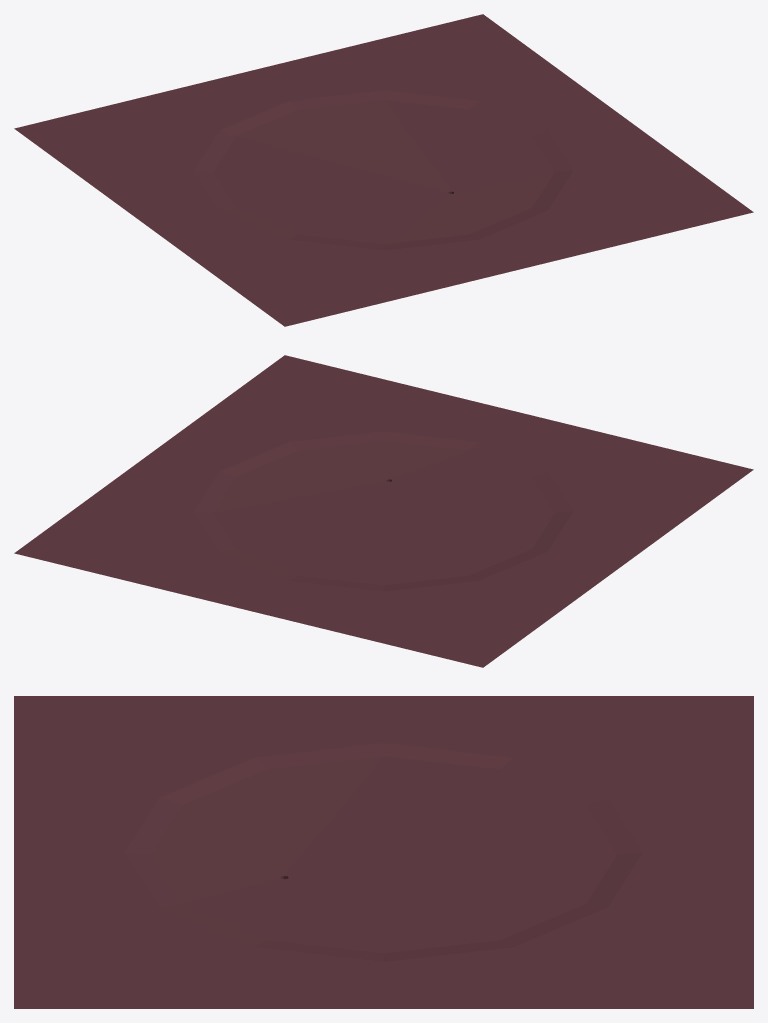
The model's file is tiles-nb-tile-golf-green-circle-nb.glb.
3 renders of one model, top to bottom at view 1: azimuth 30°, elevation 25°; view 2: azimuth 150°, elevation 25°; view 3: azimuth 270°, elevation 25°, orthographic. The views are drawn at different scales.
Parts seen in each view (by area): view 1: tile-golf-green-circle-nb; view 2: tile-golf-green-circle-nb; view 3: tile-golf-green-circle-nb.
Part boxes in pixels (x1,y1,x2,y2): tile-golf-green-circle-nb: (14, 14, 753, 326); tile-golf-green-circle-nb: (14, 355, 753, 667); tile-golf-green-circle-nb: (14, 696, 753, 1008).
Bounding box in the file's own units: 30 × 0.398 × 30.
